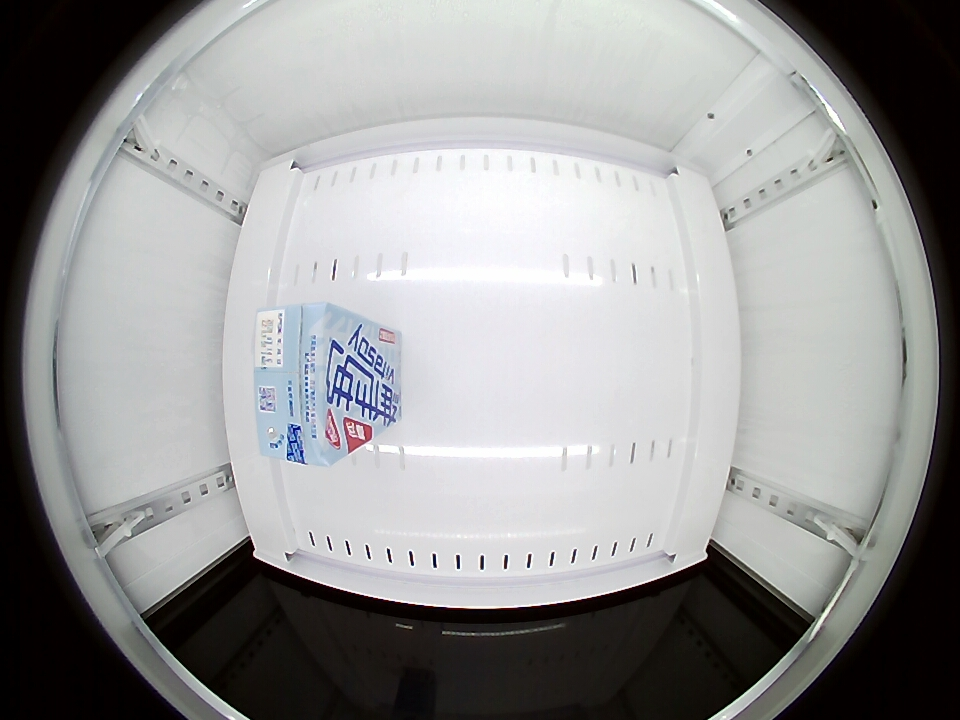weitanaiditang: (253, 302, 364, 466)
